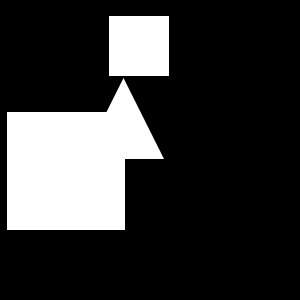circle: (7, 112, 125, 230), (109, 16, 169, 76)
triangle: (83, 78, 164, 159)
